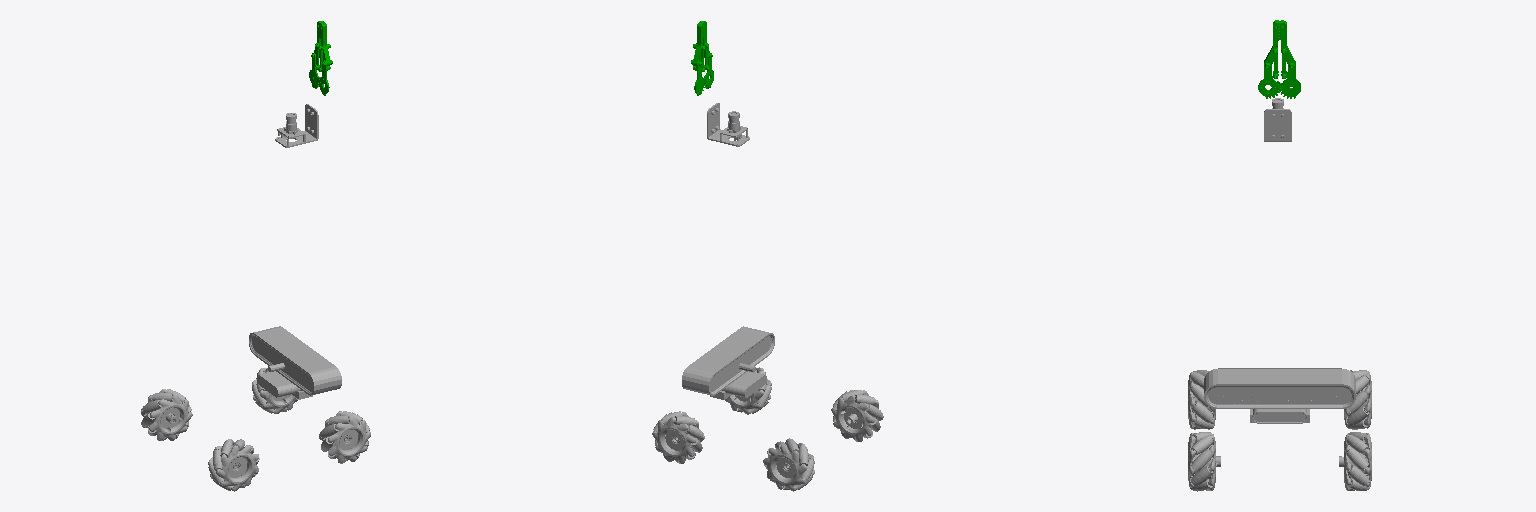
URDF robot description (x3):
<?xml version="1.0" encoding="utf-8"?>
<!-- This URDF was automatically created by SolidWorks to URDF Exporter! Originally created by Stephen Brawner (brawner@gmail.com) 
 Commit Version: 1.6.0-1-g15f4949 Build Version: 1.6.7594.29634 81.5+32.5
 For more information, please see http://wiki.ros.org/sw_urdf_exporter -->
<robot name="x3">
    <link name="base_footprint"/>
    <link name="imu_link"/>
    <link name="base_link">
        <inertial>
            <origin xyz="0.00498197982182523 5.70233829969297E-05 -0.0121008098068578" rpy="0 0 0"/>
            <mass value="0.486218814966626"/>
            <inertia
                ixx="0.00196277727666921"
                ixy="2.50447049446755E-07"
                ixz="0.000140534767811098"
                iyy="0.00457256033711368"
                iyz="2.68618064993882E-07"
                izz="0.00493927269870476"/>
        </inertial>
        <visual>
            <origin xyz="0 0 0" rpy="0 0 0"/>
            <geometry>
                <mesh filename="meshes/x3/base_link.obj"/>
            </geometry>
            <material name="base_link">
                <color rgba="0 0.7 0 1"/>
            </material>
        </visual>
        <collision>
            <origin xyz="0 0 0" rpy="0 0 0"/>
            <geometry>
                <mesh filename="meshes/x3/base_link.STL"/>
            </geometry>
        </collision>
    </link>
    <joint name="base_joint" type="fixed">
        <parent link="base_footprint"/>
        <child link="base_link"/>
        <origin xyz="0.0 0.0 0.0815" rpy="0 0 0"/>
    </joint>
    <joint name="base_imu" type="fixed">
        <parent link="base_link"/>
        <child link="imu_link"/>
        <origin xyz="-0.06 0.01 0.01" rpy="0 3.1415 1.5707"/>
    </joint>
    <link name="front_right_wheel">
        <inertial>
            <origin xyz="1.9051E-06 -2.3183E-07 -0.00064079" rpy="0 0 0"/>
            <mass value="0.051532"/>
            <inertia ixx="1.4595E-05" ixy="-4.3975E-10" ixz="4.415E-10"
                iyy="1.4594E-05" iyz="-1.7476E-09" izz="2.4264E-05"/>
        </inertial>
        <visual>
            <origin xyz="0 0 0" rpy="0 0 0"/>
            <geometry>
                <mesh filename="meshes/x3/front_right_wheel.obj"/>
            </geometry>
            <material name="front_right_wheel">
                <color rgba="0.7 0.7 0.7 1"/>
            </material>
        </visual>
        <collision>
            <origin xyz="0 0 0" rpy="0 0 0"/>
            <geometry>
                <mesh filename="meshes/x3/front_right_wheel.STL"/>
            </geometry>
        </collision>
    </link>
    <joint name="front_right_joint" type="continuous">
        <origin xyz="0.08 -0.0845 -0.0389" rpy="-1.5703 0 3.14159"/>
        <parent link="base_link"/>
        <child link="front_right_wheel"/>
        <axis xyz="0 0 1" rpy="0 0 0"/>
        <limit effort="100" velocity="10"/>
    </joint>
    <link name="front_left_wheel">
        <inertial>
            <origin xyz="2.3728E-06 -9.4228E-07 0.00064068" rpy="0 0 0"/>
            <mass value="0.051543"/>
            <inertia ixx="1.4597E-05" ixy="-4.7945E-10" ixz="-2.4786E-10"
                iyy="1.4598E-05" iyz="1.7972E-09" izz="2.4267E-05"/>
        </inertial>
        <visual>
            <origin xyz="0 0 0" rpy="0 0 0"/>
            <geometry>
                <mesh filename="meshes/x3/front_left_wheel.obj"/>
            </geometry>
            <material name="front_left_wheel">
                <color rgba="0.7 0.7 0.7 1"/>
            </material>
        </visual>
        <collision>
            <origin xyz="0 0 0" rpy="0 0 0"/>
            <geometry>
                <mesh filename="meshes/x3/front_left_wheel.STL"/>
            </geometry>
        </collision>
    </link>
    <joint name="front_left_joint" type="continuous">
        <origin xyz="0.08 0.084492 -0.0389" rpy="1.5703 0 0"/>
        <parent link="base_link"/>
        <child link="front_left_wheel"/>
        <axis xyz="0 0 1" rpy="0 0 0"/>
        <limit effort="100" velocity="10"/>
    </joint>
    <link name="back_right_wheel">
        <inertial>
            <origin xyz="-1.75924169923403E-06 1.28388821071107E-06 -0.000590549296238266" rpy="0 0 0"/>
            <mass value="0.051540174053366"/>
            <inertia ixx="1.45974152250002E-05" ixy="1.94850559178397E-10" ixz="-1.61846387282284E-09"
                iyy="1.4596501955693E-05" iyz="-6.27904057423818E-10" izz="2.42663091380451E-05"/>
        </inertial>
        <visual>
            <origin xyz="0 0 0" rpy="0 0 0"/>
            <geometry>
                <mesh filename="meshes/x3/back_right_wheel.obj"/>
            </geometry>
            <material name="back_right_wheel">
                <color rgba="0.7 0.7 0.7 1"/>
            </material>
        </visual>
        <collision>
            <origin xyz="0 0 0" rpy="0 0 0"/>
            <geometry>
                <mesh filename="meshes/x3/back_right_wheel.STL"/>
            </geometry>
        </collision>
    </link>
    <joint name="back_right_joint" type="continuous">
        <origin xyz="-0.08 -0.0845 -0.03946" rpy="-1.57 0 3.14159"/>
        <parent link="base_link"/>
        <child link="back_right_wheel"/>
        <axis xyz="0 0 1" rpy="0 0 0"/>
        <limit effort="100" velocity="10"/>
    </joint>
    <link name="back_left_wheel">
        <inertial>
            <origin xyz="-4.01213085227115E-07 2.04910264598596E-06 0.000590775697051377" rpy="0 0 0"/>
            <mass value="0.0515309299357028"/>
            <inertia ixx="1.45942986129926E-05" ixy="-3.19787215398093E-10" ixz="1.74943062058915E-09"
                iyy="1.45948727598913E-05" iyz="1.61769812110049E-10" izz="2.4263683888153E-05"/>
        </inertial>
        <visual>
            <origin xyz="0 0 0" rpy="0 0 0"/>
            <geometry>
                <mesh filename="meshes/x3/back_left_wheel.obj"/>
            </geometry>
            <material name="back_left_wheel">
                <color rgba="0.7 0.7 0.7 1"/>
            </material>
        </visual>
        <collision>
            <origin xyz="0 0 0" rpy="0 0 0"/>
            <geometry>
                <mesh filename="meshes/x3/back_left_wheel.STL"/>
            </geometry>
        </collision>
    </link>
    <joint name="back_left_joint" type="continuous">
        <origin xyz="-0.08 0.084492 -0.03954" rpy="1.5703 0 0"/>
        <parent link="base_link"/>
        <child link="back_left_wheel"/>
        <axis xyz="0 0 1" rpy="0 0 0"/>
        <limit effort="100" velocity="10"/>
    </joint>
    <link name="laser_link">
        <inertial>
            <origin xyz="-0.0176558922685589 0.000671805271544437 0.0219302095894866" rpy="0 0 0"/>
            <mass value="0.0483909504209895"/>
            <inertia ixx="1.58456966399128E-05" ixy="-4.23913983850005E-07" ixz="-2.09597897904374E-07"
                iyy="3.89262522903605E-05" iyz="3.24809725932687E-07" izz="4.86230801106223E-05"/>
        </inertial>
        <visual>
            <origin xyz="0 0 0" rpy="0 0 0"/>
            <geometry>
                <mesh filename="meshes/sensor/visual/laser_link.obj"/>
            </geometry>
            <material name="laser_link">
                <color rgba="0.7 0.7 0.7 1"/>
            </material>
        </visual>
        <collision>
            <origin xyz="0 0 0" rpy="0 0 0"/>
            <geometry>
                <mesh filename="meshes/sensor/collision/laser_link.STL"/>
            </geometry>
        </collision>
    </link>
    <joint name="laser_joint" type="fixed">
        <origin xyz="0.0435 5.25826986680105E-05 0.11" rpy="0 0 0"/>
        <parent link="base_link"/>
        <child link="laser_link"/>
    </joint>
    <link name="eyes">
        <inertial>
            <origin xyz="0 0 0" rpy="0 0 0"/>
            <mass value="0"/>
            <inertia ixx="0" ixy="0" ixz="0" iyy="0" iyz="0" izz="0"/>
        </inertial>
        <visual>
            <origin xyz="0 0 0" rpy="0 0 0"/>
            <geometry>
                <mesh filename="meshes/sensor/visual/camera_link.obj"/>
            </geometry>
            <material name="camera_link">
                <color rgba="0.7 0.7 0.7 1"/>
            </material>
        </visual>
        <collision>
            <origin xyz="0 0 0" rpy="0 0 0"/>
            <geometry>
                <mesh filename="meshes/sensor/collision/camera_link.STL"/>
            </geometry>
        </collision>
    </link>
    <joint name="eyes_joint" type="fixed">
        <origin xyz="0.057105 1.7948E-05 0.03755" rpy="0 0 0"/>
        <parent link="base_link"/>
        <child link="eyes"/>
    </joint>
    <link name="arm_link1">
        <inertial>
            <origin xyz="1.99179507982521E-05 -5.98354652829568E-05 0.0114289358828097" rpy="0 0 0"/>
            <mass value="0.0279545499871709"/>
            <inertia
                ixx="1.19144359314975E-05"
                ixy="-9.26068510046816E-09"
                ixz="3.16060516198683E-09"
                iyy="1.05642517915377E-05"
                iyz="2.69674403668579E-08"
                izz="1.49639510661413E-05"/>
        </inertial>
        <visual>
            <origin xyz="0 0 0" rpy="0 0 0"/>
            <geometry>
                <mesh filename="meshes/x3/arm_link1.obj"/>
            </geometry>
            <material name="arm_link1">
                <color rgba="0.7 0.7 0.7 1"/>
            </material>
        </visual>
        <collision>
            <origin xyz="0 0 0" rpy="0 0 0"/>
            <geometry>
                <mesh filename="meshes/x3/arm_link1.STL"/>
            </geometry>
        </collision>
    </link>
    <joint name="arm_joint1" type="revolute">
        <origin xyz="0.09825 0 0.102" rpy="0 0 0"/>
        <parent link="base_link"/>
        <child link="arm_link1"/>
        <axis xyz="0 0 -1"/>
        <limit lower="-1.5708" upper="1.5708" effort="100" velocity="1"/>
    </joint>
    <link name="arm_link2">
        <inertial>
            <origin xyz="0.024903 -0.0022632 -0.00066663" rpy="0 0 0"/>
            <mass value="0.031605"/>
            <inertia
                ixx="5.8495E-06"
                ixy="-8.8092E-07"
                ixz="1.5336E-07"
                iyy="2.667E-05"
                iyz="7.1365E-09"
                izz="2.4695E-05"/>
        </inertial>
        <visual>
            <origin xyz="0 0 0" rpy="0 0 0"/>
            <geometry>
                <mesh filename="meshes/x3/arm_link2.obj"/>
            </geometry>
            <material name="arm_link2">
                <color rgba="0 0.7 0 1"/>
            </material>
        </visual>
        <collision>
            <origin xyz="0 0 0" rpy="0 0 0"/>
            <geometry>
                <mesh filename="meshes/x3/arm_link2.STL"/>
            </geometry>
        </collision>
    </link>
    <joint name="arm_joint2" type="revolute">
        <origin xyz="0 0 0.0405" rpy="-1.5708 0 0"/>
        <parent link="arm_link1"/>
        <child link="arm_link2"/>
        <axis xyz="0 0 -1"/>
        <limit lower="-1.5708" upper="1.5708" effort="100" velocity="1"/>
    </joint>
    <link name="arm_link3">
        <inertial>
            <origin xyz="0.024903 -0.0022634 -0.0013962" rpy="0 0 0"/>
            <mass value="0.031605"/>
            <inertia
                ixx="5.8492E-06"
                ixy="-8.8063E-07"
                ixz="1.4331E-07"
                iyy="2.667E-05"
                iyz="8.9675E-09"
                izz="2.4695E-05"/>
        </inertial>
        <visual>
            <origin xyz="0 0 0" rpy="0 0 0"/>
            <geometry>
                <mesh filename="meshes/x3/arm_link3.obj"/>
            </geometry>
            <material name="arm_link3">
                <color rgba="0.7 0.7 0.7 1"/>
            </material>
        </visual>
        <collision>
            <origin xyz="0 0 0" rpy="0 0 0"/>
            <geometry>
                <mesh filename="meshes/x3/arm_link3.STL"/>
            </geometry>
        </collision>
    </link>
    <joint name="arm_joint3" type="revolute">
        <origin xyz="0 -0.0829 0" rpy="0 0 0"/>
        <parent link="arm_link2"/>
        <child link="arm_link3"/>
        <axis xyz="0 0 -1"/>
        <limit lower="-1.5708" upper="1.5708" effort="100" velocity="1"/>
    </joint>
    <link name="arm_link4">
        <inertial>
            <origin xyz="0.036246 0.0023413 -0.0019655" rpy="0 0 0"/>
            <mass value="0.049766"/>
            <inertia
                ixx="1.1857E-05"
                ixy="-6.5371E-06"
                ixz="-4.1044E-08"
                iyy="3.6323E-05"
                iyz="-1.2132E-07"
                izz="4.1769E-05"/>
        </inertial>
        <visual>
            <origin xyz="0 0 0" rpy="0 0 0"/>
            <geometry>
                <mesh filename="meshes/x3/arm_link4.obj"/>
            </geometry>
            <material name="arm_link4">
                <color rgba="0 0.7 0 1"/>
            </material>
        </visual>
        <collision>
            <origin xyz="0 0 0" rpy="0 0 0"/>
            <geometry>
                <mesh filename="meshes/x3/arm_link4.STL"/>
            </geometry>
        </collision>
    </link>
    <joint name="arm_joint4" type="revolute">
        <origin xyz="0 -0.0829 0" rpy="0 0 0"/>
        <parent link="arm_link3"/>
        <child link="arm_link4"/>
        <axis xyz="0 0 -1"/>
        <limit lower="-1.5708" upper="1.5708" effort="100" velocity="1"/>
    </joint>
    <link name="arm_link5">
        <inertial>
            <origin xyz="0.0023228 0.018169 0.028684" rpy="0 0 0"/>
            <mass value="0.04069"/>
            <inertia
                ixx="1.0627E-05"
                ixy="-3.0402E-07"
                ixz="-1.9524E-07"
                iyy="9.6306E-06"
                iyz="-1.3265E-06"
                izz="1.3298E-05"/>
        </inertial>
        <visual>
            <origin xyz="0 0 0" rpy="0 0 0"/>
            <geometry>
                <mesh filename="meshes/x3/arm_link5.obj"/>
            </geometry>
            <material name="arm_link5">
                <color rgba="0.7 0.7 0.7 1"/>
            </material>
        </visual>
        <collision>
            <origin xyz="0 0 0" rpy="0 0 0"/>
            <geometry>
                <mesh filename="meshes/x3/arm_link5.STL"/>
            </geometry>
        </collision>
    </link>
    <joint name="arm_joint5" type="revolute">
        <origin xyz="-0.00215 -0.17455 0" rpy="1.5708 0 0"/>
        <parent link="arm_link4"/>
        <child link="arm_link5"/>
        <axis xyz="0 0 1"/>
        <limit lower="-1.5708" upper="3.14159" effort="100" velocity="1"/>
    </joint>
    <link name="rlink1">
        <inertial>
            <origin xyz="0.00653227489887718 0.000416767821288678 0.000980984132845697" rpy="0 0 0"/>
            <mass value="0.00117883201961805"/>
            <inertia
                ixx="3.30415008842026E-08"
                ixy="8.05114594599862E-09"
                ixz="-1.46441757999184E-10"
                iyy="1.67254031134004E-07"
                iyz="-9.31932225400159E-12"
                izz="1.99277285249309E-07"/>
        </inertial>
        <visual>
            <origin xyz="0 0 0" rpy="0 0 0"/>
            <geometry>
                <mesh filename="meshes/x3/rlink1.obj"/>
            </geometry>
            <material name="rlink1">
                <color rgba="0 0.7 0 1"/>
            </material>
        </visual>
        <collision>
            <origin xyz="0 0 0" rpy="0 0 0"/>
            <geometry>
                <mesh filename="meshes/x3/rlink1.STL"/>
            </geometry>
        </collision>
    </link>
    <joint name="grip_joint" type="revolute">
        <origin xyz="-0.0035 -0.012625 -0.0685" rpy="0 -1.5708 0"/>
        <parent link="arm_link5"/>
        <child link="rlink1"/>
        <axis xyz="0 0 1"/>
        <limit lower="-1.54" upper="0" effort="100" velocity="1"/>
    </joint>
    <link name="rlink2">
        <inertial>
            <origin xyz="0.021158 0.0063295 -0.0030251" rpy="0 0 0"/>
            <mass value="0.0024469"/>
            <inertia
                ixx="5.188E-08"
                ixy="-1.2303E-07"
                ixz="-1.2978E-09"
                iyy="6.3204E-07"
                iyz="-3.8824E-10"
                izz="6.6364E-07"/>
        </inertial>
        <visual>
            <origin xyz="0 0 0" rpy="0 0 0"/>
            <geometry>
                <mesh filename="meshes/x3/rlink2.obj"/>
            </geometry>
            <material name="rlink2">
                <color rgba="0 0.7 0 1"/>
            </material>
        </visual>
        <collision>
            <origin xyz="0 0 0" rpy="0 0 0"/>
            <geometry>
                <mesh filename="meshes/x3/rlink2.STL"/>
            </geometry>
        </collision>
    </link>
    <joint name="rlink_joint2" type="continuous">
        <origin xyz="0.03 -0.00075429 0" rpy="0 0 0"/>
        <parent link="rlink1"/>
        <child link="rlink2"/>
        <axis xyz="0 0 1"/>
        <mimic joint="grip_joint" multiplier="-1"/>
        <limit lower="0" upper="1.54" effort="100" velocity="1"/>
    </joint>
    <link name="rlink3">
        <inertial>
            <origin xyz="0.014355 1.1499E-05 -0.0033992" rpy="0 0 0"/>
            <mass value="0.00087627"/>
            <inertia
                ixx="2.0534E-08"
                ixy="-1.0235E-10"
                ixz="1.074E-09"
                iyy="1.4825E-07"
                iyz="8.7073E-13"
                izz="1.3089E-07"/>
        </inertial>
        <visual>
            <origin xyz="0 0 0" rpy="0 0 0"/>
            <geometry>
                <mesh filename="meshes/x3/rlink3.obj"/>
            </geometry>
            <material name="rlink3">
                <color rgba="0 0.7 0 1"/>
            </material>
        </visual>
        <collision>
            <origin xyz="0 0 0" rpy="0 0 0"/>
            <geometry>
                <mesh filename="meshes/x3/rlink3.STL"/>
            </geometry>
        </collision>
    </link>
    <joint name="rlink_joint3" type="continuous">
        <origin xyz="-0.0035 -0.0045 -0.0505" rpy="0 -1.5708 0"/>
        <parent link="arm_link5"/>
        <child link="rlink3"/>
        <axis xyz="0 0 1"/>
        <mimic joint="grip_joint" multiplier="1"/>
        <limit lower="-1.54" upper="0" effort="100" velocity="1"/>
    </joint>
    <link name="llink1">
        <inertial>
            <origin xyz="0.00628617364795481 -0.000318530407893543 0.00100000338924466" rpy="0 0 0"/>
            <mass value="0.00121010771282268"/>
            <inertia
                ixx="3.18226609060835E-08"
                ixy="-8.06236004452728E-09"
                ixz="3.99064856025629E-14"
                iyy="1.69267681405915E-07"
                iyz="1.87039773440675E-14"
                izz="2.00283878176223E-07"/>
        </inertial>
        <visual>
            <origin xyz="0 0 0" rpy="0 0 0"/>
            <geometry>
                <mesh filename="meshes/x3/llink1.obj"/>
            </geometry>
            <material name="llink1">
                <color rgba="0 0.7 0 1"/>
            </material>
        </visual>
        <collision>
            <origin xyz="0 0 0" rpy="0 0 0"/>
            <geometry>
                <mesh filename="meshes/x3/llink1.STL"/>
            </geometry>
        </collision>
    </link>
    <joint name="llink_joint1" type="continuous">
        <origin xyz="-0.0035 0.012375 -0.0685" rpy="0 -1.5708 0"/>
        <parent link="arm_link5"/>
        <child link="llink1"/>
        <axis xyz="0 0 1"/>
        <mimic joint="grip_joint" multiplier="-1"/>
        <limit lower="0" upper="1.54" effort="100" velocity="1"/>
    </joint>
    <link name="llink2">
        <inertial>
            <origin xyz="0.021159 -0.0063248 -0.0030251" rpy="0 0 0"/>
            <mass value="0.0024469"/>
            <inertia ixx="5.1826E-08" ixy="1.229E-07" ixz="-1.2979E-09" iyy="6.321E-07" iyz="3.8796E-10"
                izz="6.6364E-07"/>
        </inertial>
        <visual>
            <origin xyz="0 0 0" rpy="0 0 0"/>
            <geometry>
                <mesh filename="meshes/x3/llink2.obj"/>
            </geometry>
            <material name="llink2">
                <color rgba="0 0.7 0 1"/>
            </material>
        </visual>
        <collision>
            <origin xyz="0 0 0" rpy="0 0 0"/>
            <geometry>
                <mesh filename="meshes/x3/llink2.STL"/>
            </geometry>
        </collision>
    </link>
    <joint name="llink_joint2" type="continuous">
        <origin xyz="0.03 0.00065104 0" rpy="0 0 0"/>
        <parent link="llink1"/>
        <child link="llink2"/>
        <axis xyz="0 0 1"/>
        <mimic joint="grip_joint" multiplier="1"/>
        <limit lower="-1.54" upper="0" effort="100" velocity="1"/>
    </joint>
    <link name="llink3">
        <inertial>
            <origin xyz="0.014354 -7.4795E-05 -0.0033992" rpy="0 0 0"/>
            <mass value="0.00087627"/>
            <inertia ixx="2.0537E-08" ixy="6.6549E-10" ixz="1.074E-09" iyy="1.4825E-07" iyz="-5.5867E-12"
                izz="1.3089E-07"/>
        </inertial>
        <visual>
            <origin xyz="0 0 0" rpy="0 0 0"/>
            <geometry>
                <mesh filename="meshes/x3/llink3.obj"/>
            </geometry>
            <material name="llink3">
                <color rgba="0 0.7 0 1"/>
            </material>
        </visual>
        <collision>
            <origin xyz="0 0 0" rpy="0 0 0"/>
            <geometry>
                <mesh filename="meshes/x3/llink3.STL"/>
            </geometry>
        </collision>
    </link>
    <joint name="llink_joint3" type="continuous">
        <origin xyz="-0.0035 0.0045 -0.0505" rpy="0 -1.5708 0"/>
        <parent link="arm_link5"/>
        <child link="llink3"/>
        <axis xyz="0 0 1"/>
        <mimic joint="grip_joint" multiplier="-1"/>
        <limit lower="0" upper="1.54" effort="100" velocity="1"/>
    </joint>
    <link name="mono_link">
        <inertial>
            <origin xyz="5.8458E-05 0.0095015 -0.0014824" rpy="0 0 0"/>
            <mass value="0.0097589"/>
            <inertia ixx="3.3488E-06" ixy="1.3667E-08" ixz="6.4235E-09" iyy="1.8662E-06" iyz="-1.0265E-07"
                izz="2.5696E-06"/>
        </inertial>
        <visual>
            <origin xyz="0 0 0" rpy="0 0 0"/>
            <geometry>
                <mesh filename="meshes/sensor/visual/mono_link.obj"/>
            </geometry>
            <material name="mono_link">
                <color rgba="0.7 0.7 0.7 1"/>
            </material>
        </visual>
        <collision>
            <origin xyz="0 0 0" rpy="0 0 0"/>
            <geometry>
                <mesh filename="meshes/sensor/collision/mono_link.STL"/>
            </geometry>
        </collision>
    </link>
    <joint name="mono_joint" type="fixed">
        <origin xyz="-0.0481 -0.05145 -0.0022" rpy="1.5708 0 0"/>
        <parent link="arm_link4"/>
        <child link="mono_link"/>
    </joint>
</robot>

--- Facts derived from the render (not from the file) ---
The picture shows the robot from 3 angles, left to right: view 1: azimuth 30°, elevation 25°; view 2: azimuth 150°, elevation 25°; view 3: azimuth 270°, elevation 25°; orthographic projection.
Robot: x3 — 21 links, 20 joints (6 revolute, 9 continuous, 5 fixed); root link base_footprint; default pose: all joints at 0.
Links seen in each view (by area): view 1: eyes, back_left_wheel, front_right_wheel, back_right_wheel, mono_link, front_left_wheel; view 2: eyes, front_left_wheel, back_left_wheel, back_right_wheel, mono_link, front_right_wheel; view 3: eyes, front_right_wheel, front_left_wheel, back_right_wheel, back_left_wheel, mono_link.
Link boxes in pixels (box(x1,y1,x2,y2)): eyes: box(249, 326, 341, 399); back_left_wheel: box(141, 389, 192, 440); front_right_wheel: box(319, 411, 370, 463); back_right_wheel: box(208, 439, 259, 491); mono_link: box(275, 104, 318, 147); front_left_wheel: box(252, 368, 298, 413); eyes: box(682, 326, 774, 399); front_left_wheel: box(652, 411, 704, 463); back_left_wheel: box(763, 438, 814, 491); back_right_wheel: box(831, 390, 883, 441); mono_link: box(707, 103, 749, 146); front_right_wheel: box(725, 367, 771, 414); eyes: box(1204, 368, 1355, 423); front_right_wheel: box(1188, 432, 1220, 491); front_left_wheel: box(1339, 432, 1371, 490); back_right_wheel: box(1188, 370, 1215, 429); back_left_wheel: box(1344, 370, 1371, 429); mono_link: box(1264, 98, 1291, 141).
Bounding box of the posed robot: 0.2246 × 0.1994 × 0.5667 m (x, y, z).
Meshes: 19 distinct files referenced, 12 mesh visuals loaded (12 OBJ); not drawn: 7 (reference not matched to a file when rendering).
